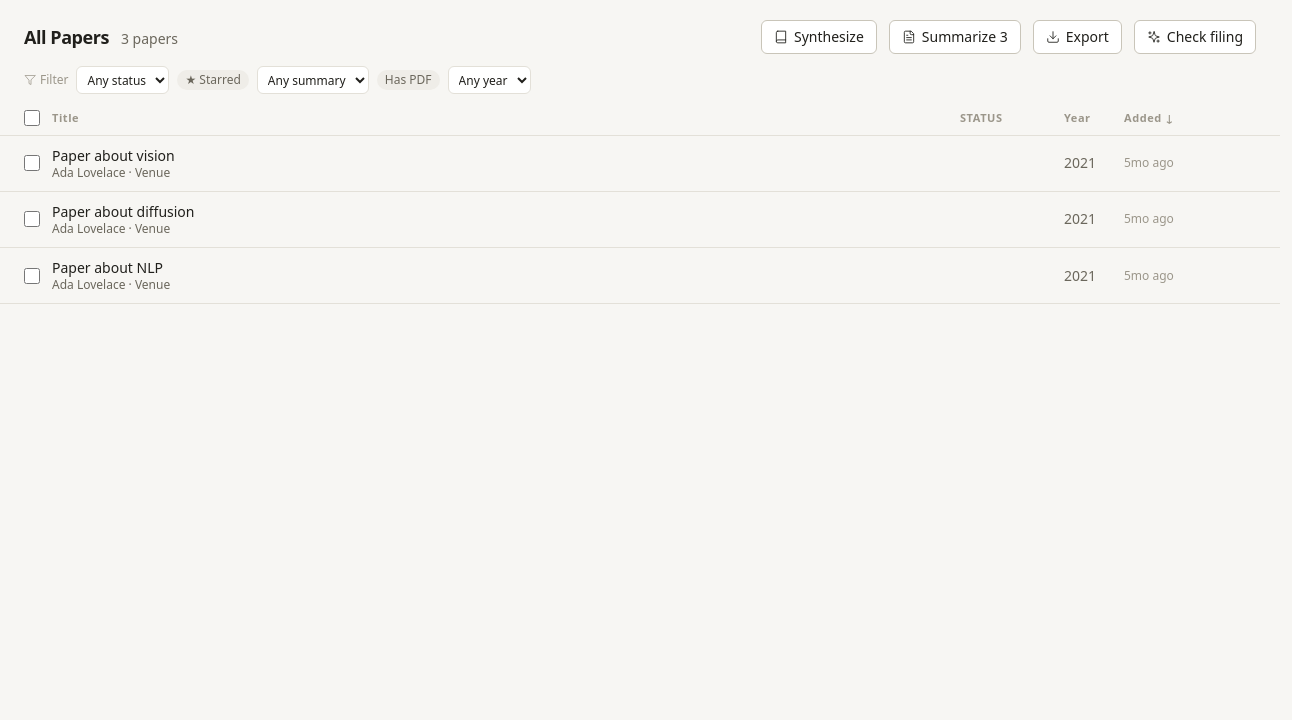
Test case: LibraryView · synthesis entry › synthesizes the whole view when nothing is selected
Click the button "Synthesize" at (819, 37), box [761, 20, 877, 54]
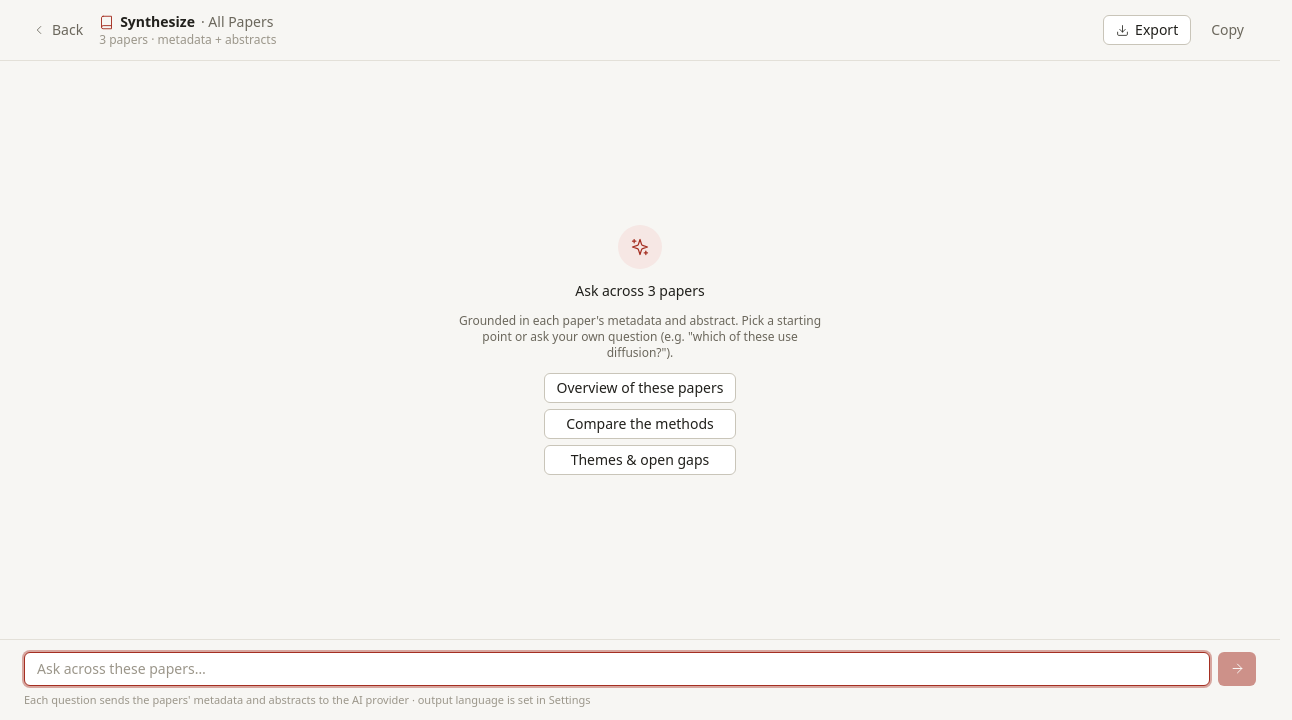
Expected: the text "Ask across 3 papers" is shown, [575, 281, 705, 301]
